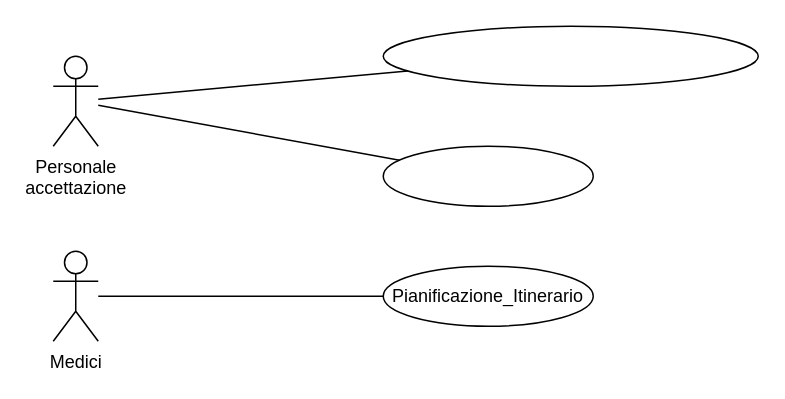
The diagram is 785 pixels wide and 399 high, and some of its shapes have lost their labels. Each missing label, with the centre of its shape:
"Registrazione_Ricoveri_e_Prestazioni" goes at (570,55).
"Ricerca_Medici" goes at (487,175).
